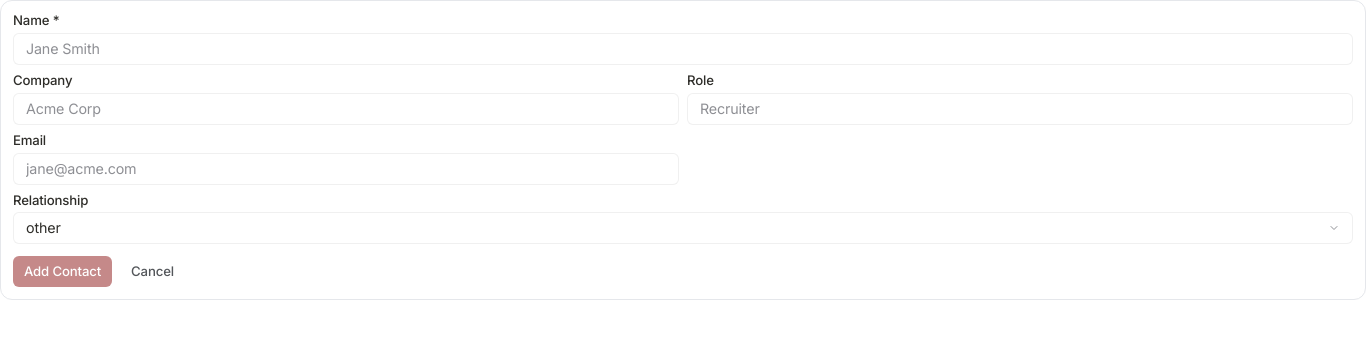
it: ContactForm › error handling › should display error message on submission failure
The image size is (1366, 345).
Type "John Doe" into the field with placeholder "Jane Smith" at (683, 49), box [13, 33, 1353, 65]
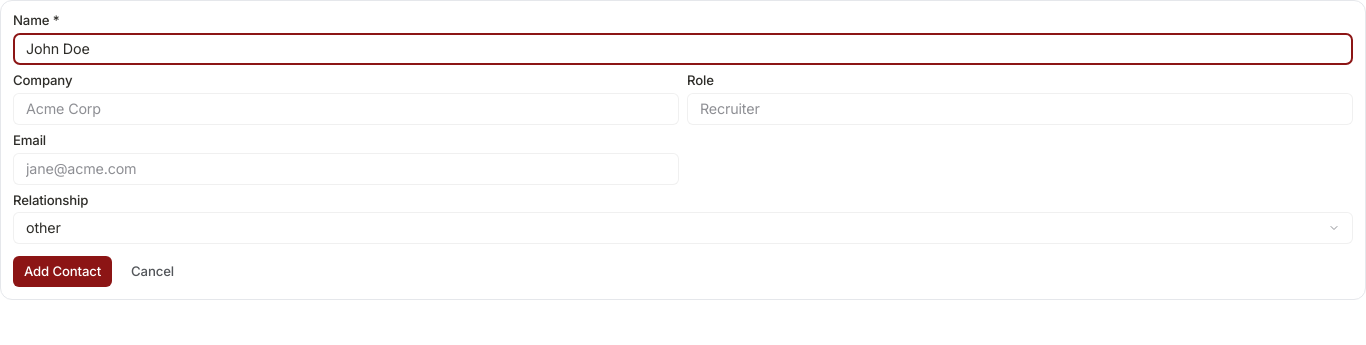
Click the button "Add Contact" at (63, 272), box [13, 256, 112, 287]
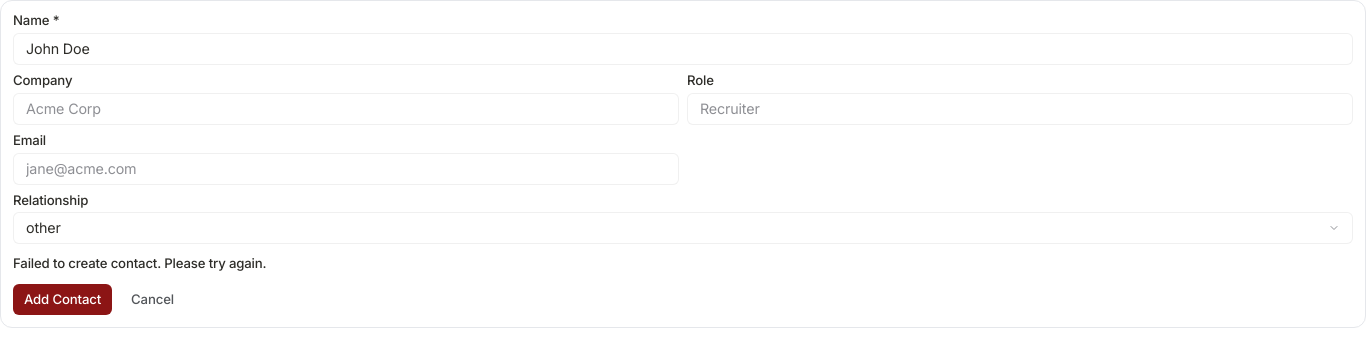
Expected: the text "Failed to create contact. Please try again." is shown, [13, 255, 266, 271]
